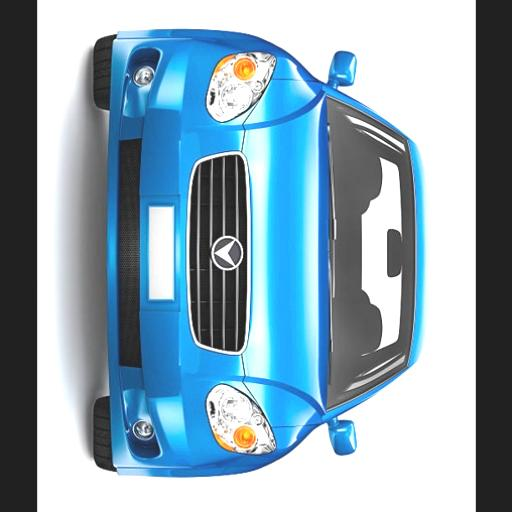sedan: (94, 30, 429, 476)
